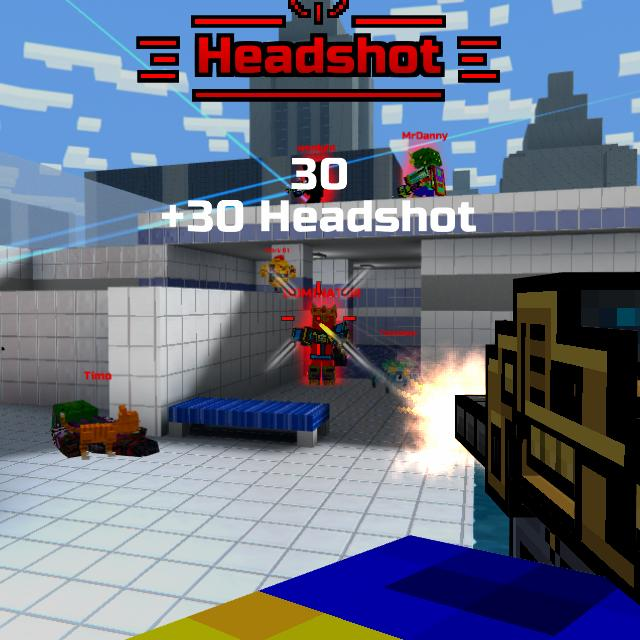Enemy: (296, 305, 352, 387), (405, 144, 446, 196), (299, 162, 328, 202)
